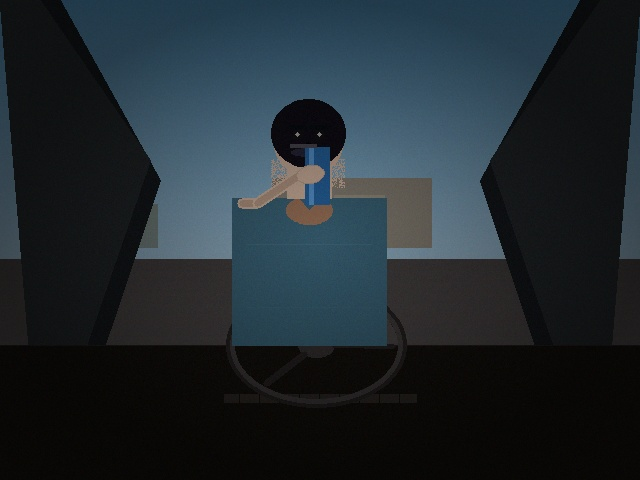drinking: (281, 134, 339, 214)
